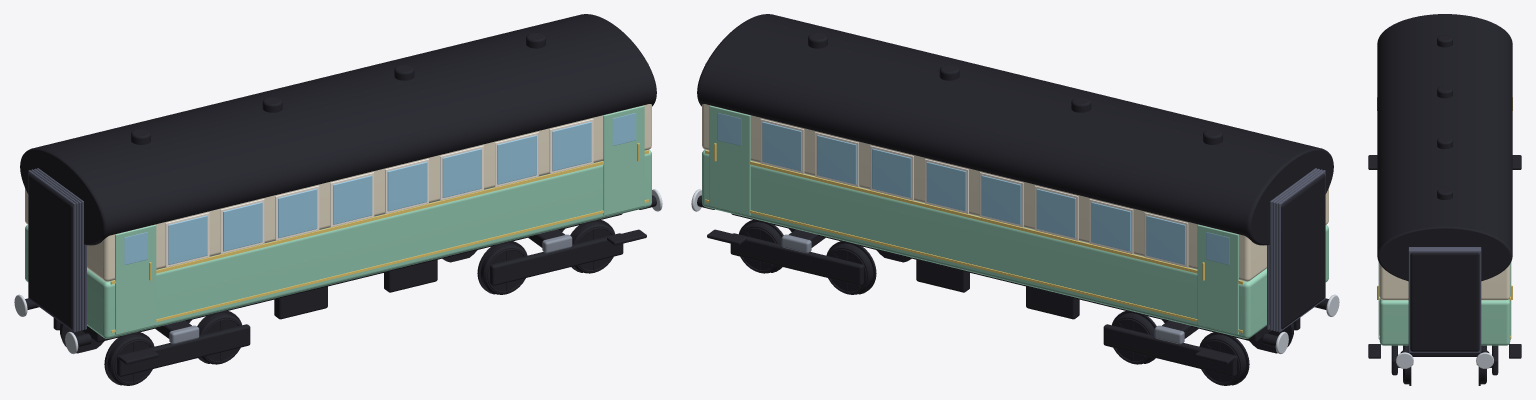
Rendered from carriage.glb.
3 renders of one model, left to right at view 1: azimuth 30°, elevation 25°; view 2: azimuth 150°, elevation 25°; view 3: azimuth 270°, elevation 25°, orthographic. The views are drawn at different scales.
Parts seen in each view (by area): view 1: carriage.003, cw3.4-0.8-1.003 (×4); view 2: carriage.003, cw3.4-0.003 (×4); view 3: carriage.003, cw3.4-0.8-1.003, cw3.4-0.003.
Part boxes in pixels (bbox=[...]): carriage.003: bbox=[14, 14, 662, 376]; cw3.4-0.8-1.003 (×4): bbox=[104, 220, 614, 385]; carriage.003: bbox=[691, 14, 1339, 376]; cw3.4-0.003 (×4): bbox=[739, 220, 1249, 385]; carriage.003: bbox=[1368, 14, 1521, 375]; cw3.4-0.8-1.003: bbox=[1398, 345, 1413, 385]; cw3.4-0.003: bbox=[1476, 345, 1491, 385].
Size of the model in its own units: 10.7 by 3.94 by 3.05.
Materials: 1 (1 with a texture image).
